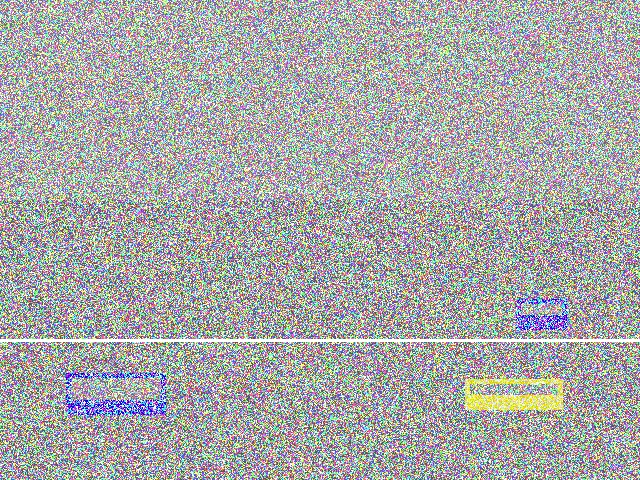bus: (462, 105, 588, 236)
motorcycle: (449, 204, 617, 309)
